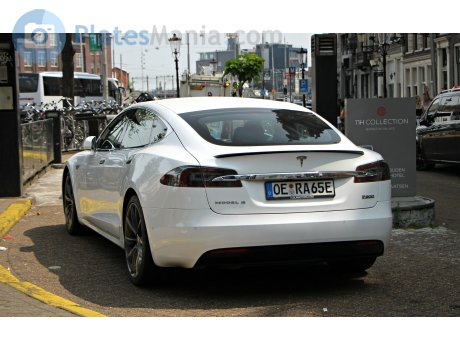License Plates: (269, 183, 331, 194)
